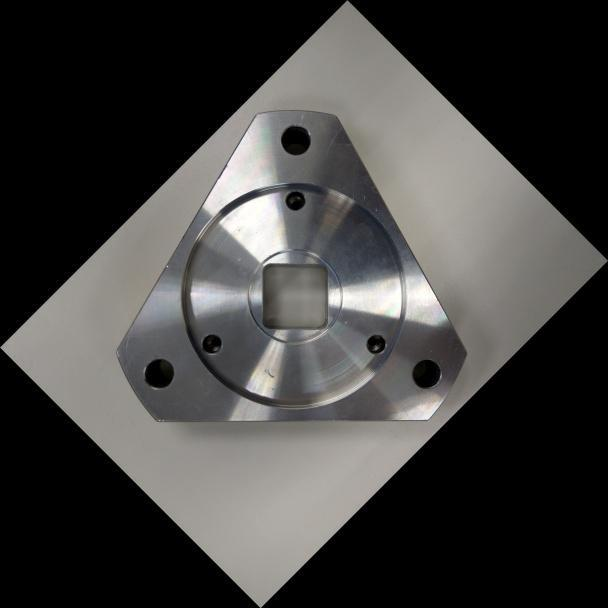hole: (133, 348, 182, 398), (272, 116, 319, 163), (403, 350, 449, 396), (193, 327, 229, 363), (360, 327, 393, 360), (279, 184, 311, 216)
